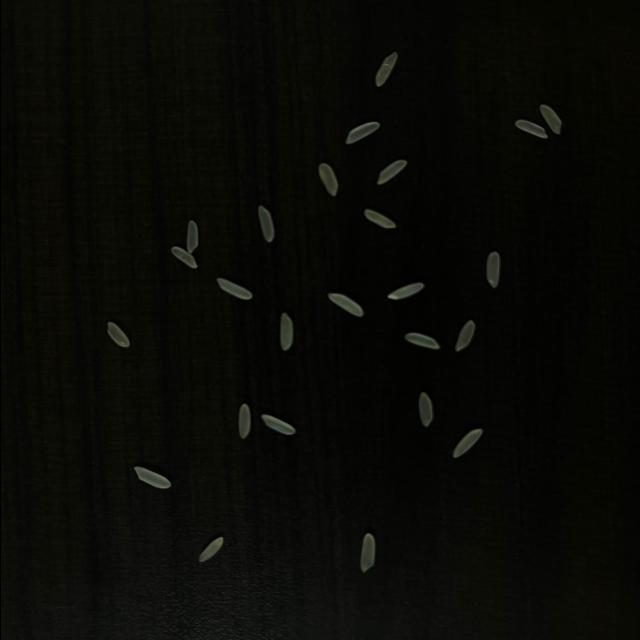Full: (451, 428, 482, 458), (327, 293, 362, 317), (133, 466, 171, 488), (374, 52, 397, 87), (216, 278, 252, 300), (260, 414, 295, 436), (344, 122, 378, 144), (375, 160, 406, 184), (197, 536, 223, 562), (318, 163, 338, 196), (454, 319, 474, 352), (538, 104, 560, 134), (387, 282, 423, 300), (363, 209, 395, 229), (359, 534, 375, 574), (513, 120, 547, 138), (404, 332, 439, 349), (170, 246, 197, 268), (258, 206, 274, 242), (107, 322, 129, 347), (279, 312, 293, 350), (418, 392, 432, 428), (485, 252, 499, 288), (238, 404, 250, 438), (186, 220, 198, 253)
